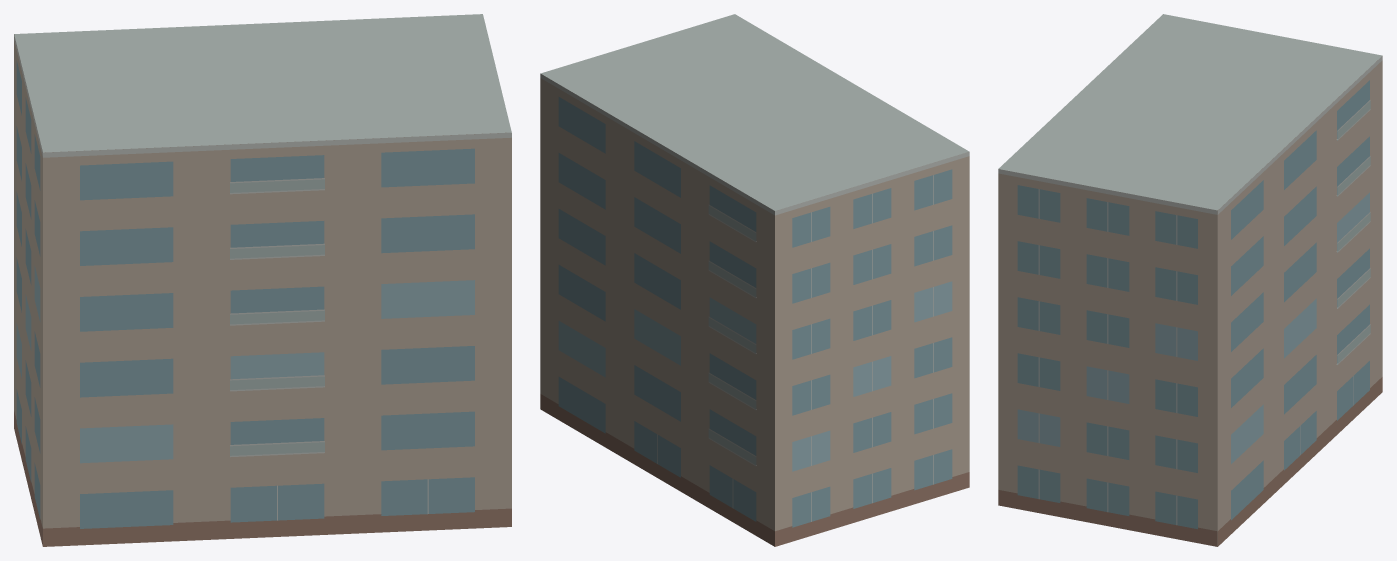
The model's file is survey-upis-32903766.glb.
The picture shows the model from 3 angles, left to right: view 1: azimuth 30°, elevation 25°; view 2: azimuth 150°, elevation 25°; view 3: azimuth 270°, elevation 25°; orthographic projection. The views are drawn at different scales.
Visible parts, largest first — view 1: survey-upis-32903766.tmp; view 2: survey-upis-32903766.tmp; view 3: survey-upis-32903766.tmp.
Boxes of the visible parts, x1,y1,x2,y2 form: survey-upis-32903766.tmp: [14, 14, 511, 546]; survey-upis-32903766.tmp: [540, 14, 969, 546]; survey-upis-32903766.tmp: [998, 14, 1382, 546].
Bounding box in the file's own units: 22.93 × 18.3 × 18.96.
